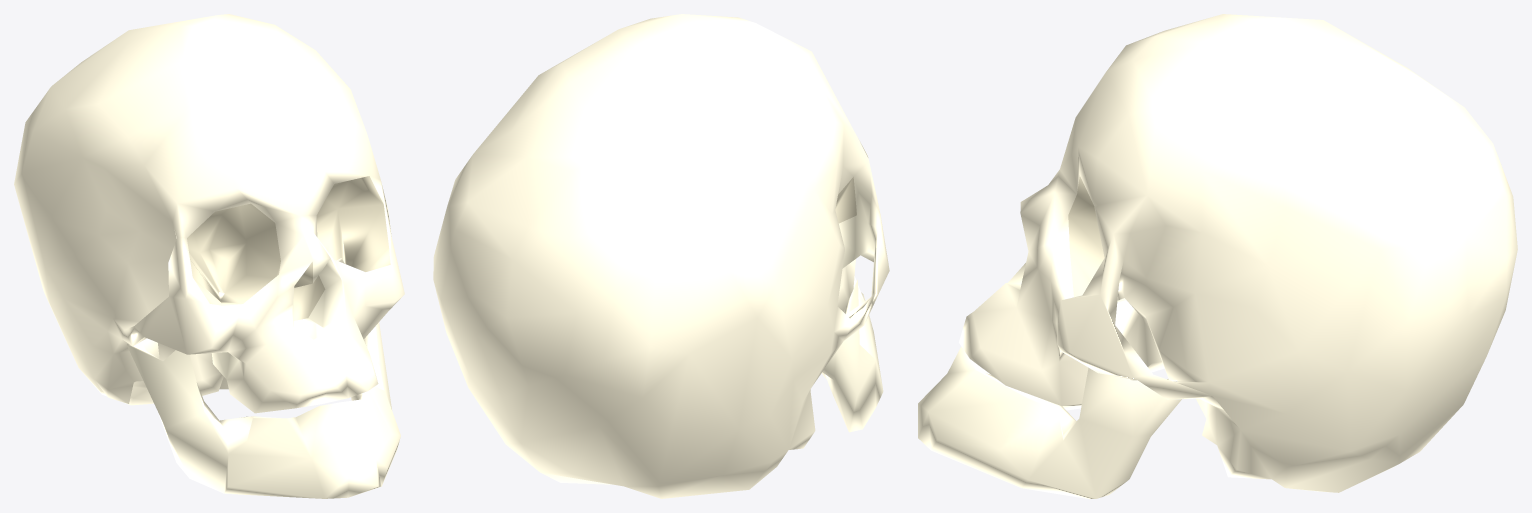
The model's file is 6978c407-b152-404d-b2d0-78bcac000166.glb.
3 renders of one model, left to right at view 1: azimuth 30°, elevation 25°; view 2: azimuth 150°, elevation 25°; view 3: azimuth 270°, elevation 25°, orthographic. The views are drawn at different scales.
Visible parts, largest first — view 1: Skull01; view 2: Skull01; view 3: Skull01.
Part boxes in pixels (x1=…): Skull01: x1=14, y1=14, x2=404, y2=498; Skull01: x1=433, y1=14, x2=889, y2=498; Skull01: x1=918, y1=14, x2=1517, y2=498.
Size of what is drawn, in the model's own units: 0.2005 by 0.2517 by 0.3132.
1 material, 1 textured.
